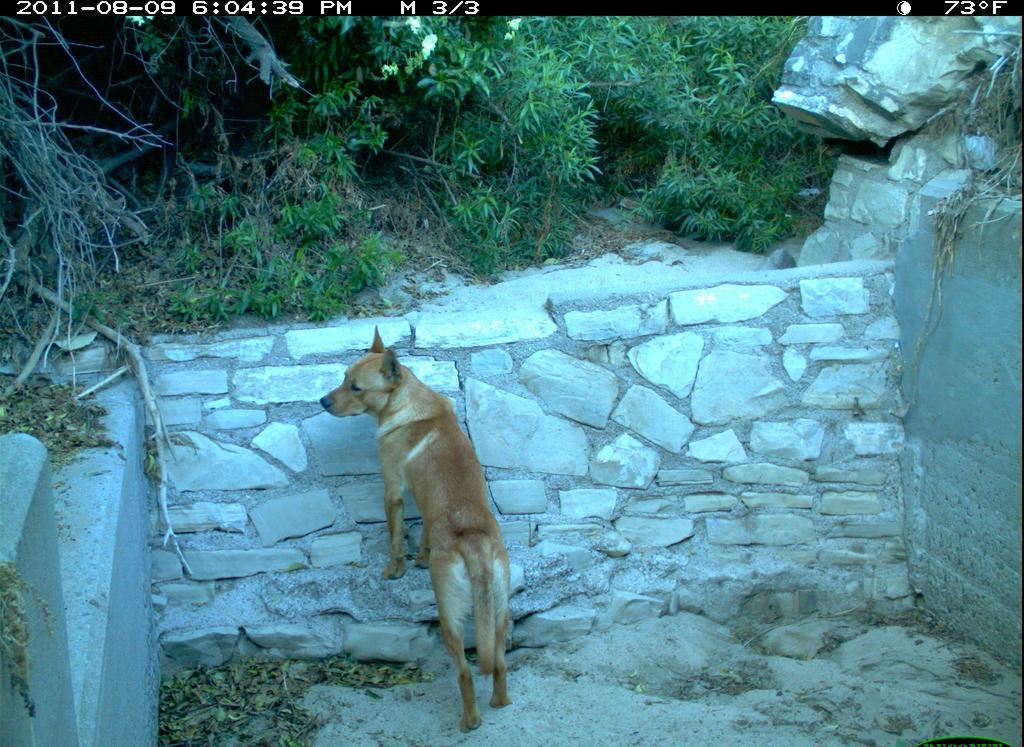dog: (306, 323, 538, 742)
